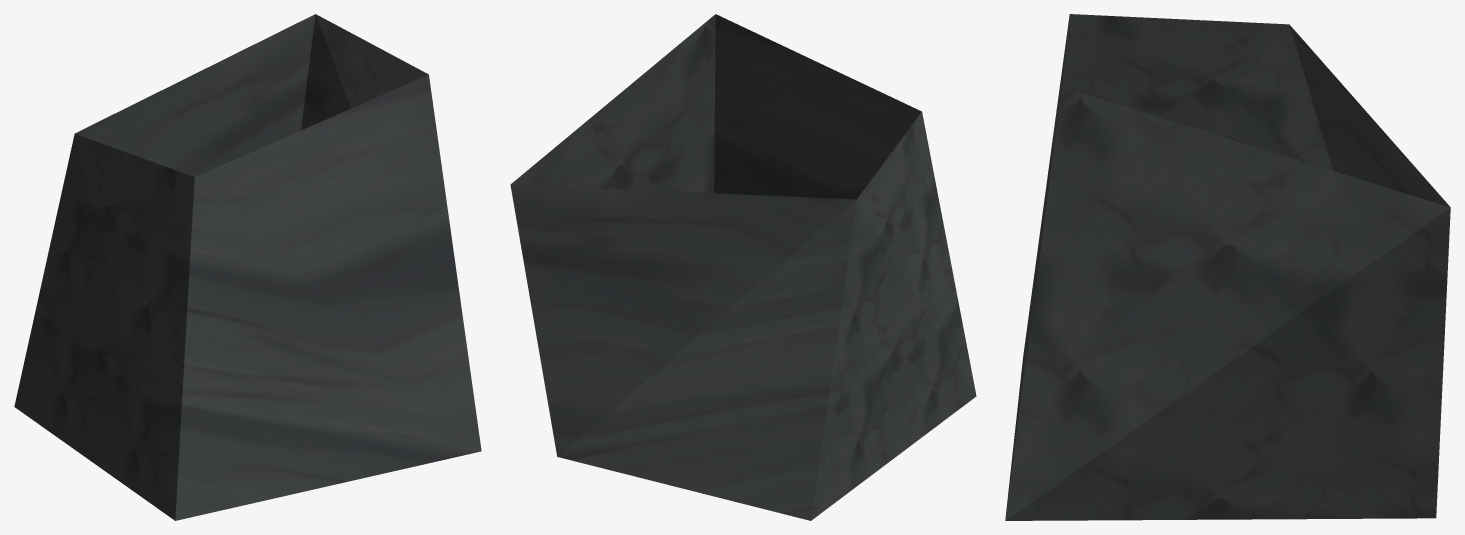
Rendered from Ridge_2_1_Lat.gltf.
The picture shows the model from 3 angles, left to right: view 1: azimuth 30°, elevation 25°; view 2: azimuth 150°, elevation 25°; view 3: azimuth 270°, elevation 25°; orthographic projection. The views are drawn at different scales.
Parts seen in each view (by area): view 1: Ridge_2_1_Lat; view 2: Ridge_2_1_Lat; view 3: Ridge_2_1_Lat.
Boxes of the visible parts, bbox=[...] form: Ridge_2_1_Lat: bbox=[14, 14, 481, 520]; Ridge_2_1_Lat: bbox=[510, 14, 976, 520]; Ridge_2_1_Lat: bbox=[1005, 14, 1450, 520].
Bounding box in the file's own units: 17.78 × 19.86 × 18.33.
Materials: 1 (1 with a texture image).
